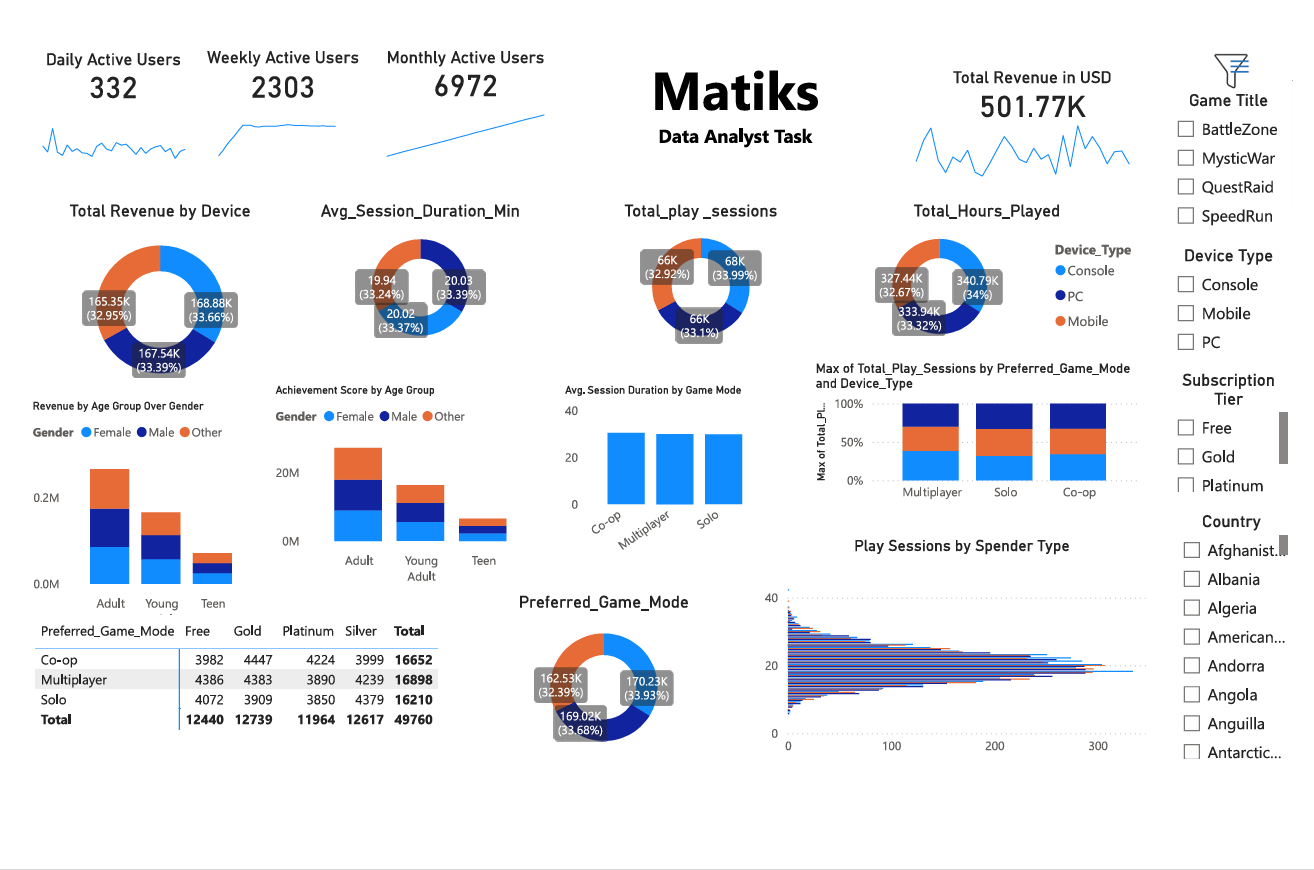

The page's visual inventory and layout, read from the dashboard file:
{"tool":"powerbi","page":{"name":"Page 1","canvas":[1280,720],"ordinal":0},"visuals":[{"type":"card","title":"Weekly Active Users","fields":{"Values":["Matiks.WAU"]},"box":[172.5,0,185.8,56.7],"z":0},{"type":"lineChart","fields":{"Y":["Sum(Matiks.Total_Revenue_USD)"],"Category":["Calendar.Date.Variation.Date Hierarchy.Year","Calendar.Date.Variation.Date Hierarchy.Quarter","Calendar.Date.Variation.Date Hierarchy.Month","Calendar.Date.Variation.Date Hierarchy.Day"]},"box":[886.7,57.8,244.4,85.6],"z":1000},{"type":"slicer","title":"Device Type","fields":{"Values":["Matiks.Device_Type"]},"box":[1152.2,198.9,127.8,130],"z":2000},{"type":"slicer","title":"Country","fields":{"Values":["Matiks.Country"]},"box":[1157.8,465.6,122.2,254.4],"z":3000},{"type":"slicer","title":"Game Title","fields":{"Values":["Matiks.Game_Title"]},"box":[1152.2,43.3,127.8,155.6],"z":4000},{"type":"lineChart","title":"Daily Active Users","fields":{"Y":["Matiks.DAU_CARD"],"Category":["Calendar.Date.Variation.Date Hierarchy.Year"]},"box":[9.2,54.2,172.5,63.3],"z":5000},{"type":"lineChart","title":"Weekly Active Users Over Time","fields":{"Y":["Matiks.WAU"],"Category":["Calendar.Date.Variation.Date Hierarchy.Year"]},"box":[185.8,55,147.5,65],"z":6000},{"type":"lineChart","title":"Montly Active Users Over Time","fields":{"Y":["Matiks.MAU"],"Category":["Calendar.Date.Variation.Date Hierarchy.Year"]},"box":[355,54.2,188.3,62.5],"z":7000},{"type":"card","title":"Daily Active Users","fields":{"Values":["Matiks.DAU_CARD"]},"box":[4.2,1.7,181.7,54.2],"z":8000},{"type":"card","title":"Monthly Active Users","fields":{"Values":["Matiks.MAU_CARD"]},"box":[358.3,0,181.7,54.2],"z":9000},{"type":"card","title":"Total Revenue in USD","fields":{"Values":["Sum(Matiks.Total_Revenue_USD)"]},"box":[906.2,20,225,56.2],"z":10000},{"type":"donutChart","title":"Total_play _sessions","fields":{"Category":["Matiks.Device_Type"],"Y":["Sum(Matiks.Total_Play_Sessions)"]},"box":[540,153.8,291.2,155],"z":11000},{"type":"donutChart","title":"Avg_Session_Duration_Min","fields":{"Category":["Matiks.Device_Type"],"Y":["Avg(Matiks.Total_Play_Sessions)"]},"box":[283.8,153.8,238.8,156.2],"z":12000},{"type":"donutChart","title":"Total Revenue by Device","fields":{"Category":["Matiks.Device_Type"],"Y":["Sum(Matiks.Total_Revenue_USD)"]},"box":[0,153.8,283.8,200],"z":13000},{"type":"donutChart","title":"Total_Hours_Played","fields":{"Category":["Matiks.Device_Type"],"Y":["Sum(Matiks.Total_Hours_Played)"]},"box":[805,153.8,336.2,153.8],"z":14000},{"type":"clusteredBarChart","title":"Play Sessions by Spender Type","fields":{"Y":["CountNonNull(Matiks.Spender_Type)"],"Category":["Matiks.Total_Play_Sessions"],"Series":["Matiks.Device_Type"]},"box":[744,491,408,229],"z":15000},{"type":"columnChart","title":"Revenue by Age Group Over Gender","fields":{"Category":["Matiks.User_Age_Segment"],"Series":["Matiks.Gender"],"Y":["Sum(Matiks.Total_Revenue_USD)"]},"box":[9,354,233,236],"z":16000},{"type":"columnChart","title":"Achievement Score by Age Group","fields":{"Category":["Matiks.User_Age_Segment"],"Y":["Sum(Matiks.Achievement_Score)"],"Series":["Matiks.Gender"]},"box":[253,338,270,209],"z":17000},{"type":"donutChart","title":"Preferred_Game_Mode","fields":{"Category":["Matiks.Preferred_Game_Mode"],"Y":["Sum(Matiks.Total_Revenue_USD)"]},"box":[466.7,546.7,242.2,173.3],"z":18000},{"type":"hundredPercentStackedColumnChart","fields":{"Category":["Matiks.Preferred_Game_Mode"],"Y":["Max(Matiks.Total_Play_Sessions)"],"Series":["Matiks.Device_Type"]},"box":[796,315,335,150],"z":19000},{"type":"clusteredColumnChart","title":"Avg. Session Duration by Game Mode","fields":{"Category":["Matiks.Preferred_Game_Mode"],"Y":["Avg(Matiks.Avg_Session_Duration_Min)"]},"box":[543.8,337.5,210,180],"z":20000},{"type":"pivotTable","fields":{"Rows":["Matiks.Preferred_Game_Mode"],"Columns":["Matiks.Subscription_Tier"],"Values":["Sum(Matiks.In_Game_Purchases_Count)"]},"box":[12,571,416,149],"z":21000},{"type":"image","box":[1157.8,0,122.2,47.8],"z":22000},{"type":"textbox","box":[568.8,0,302.5,115],"z":23000},{"type":"slicer","title":"Subscription Tier","fields":{"Values":["Matiks.Subscription_Tier"]},"box":[1152.2,324.4,127.8,130],"z":23001}]}

Visuals, with their boxes on the page's 1280x720 design canvas (x1, y1, x2, y2). These are canvas units, not pixel positions in the 1314x870 screenshot, which may show the page scaled, cropped or inside an application window:
"Weekly Active Users" card: x1=172, y1=0, x2=358, y2=57
lineChart - Sum(Matiks.Total_Revenue_USD) x Calendar.Date.Variation.Date Hierarchy.Year: x1=887, y1=58, x2=1131, y2=143
"Device Type" slicer: x1=1152, y1=199, x2=1280, y2=329
"Country" slicer: x1=1158, y1=466, x2=1280, y2=720
"Game Title" slicer: x1=1152, y1=43, x2=1280, y2=199
"Daily Active Users" lineChart: x1=9, y1=54, x2=182, y2=118
"Weekly Active Users Over Time" lineChart: x1=186, y1=55, x2=333, y2=120
"Montly Active Users Over Time" lineChart: x1=355, y1=54, x2=543, y2=117
"Daily Active Users" card: x1=4, y1=2, x2=186, y2=56
"Monthly Active Users" card: x1=358, y1=0, x2=540, y2=54
"Total Revenue in USD" card: x1=906, y1=20, x2=1131, y2=76
"Total_play _sessions" donutChart: x1=540, y1=154, x2=831, y2=309
"Avg_Session_Duration_Min" donutChart: x1=284, y1=154, x2=523, y2=310
"Total Revenue by Device" donutChart: x1=0, y1=154, x2=284, y2=354
"Total_Hours_Played" donutChart: x1=805, y1=154, x2=1141, y2=308
"Play Sessions by Spender Type" clusteredBarChart: x1=744, y1=491, x2=1152, y2=720
"Revenue by Age Group Over Gender" columnChart: x1=9, y1=354, x2=242, y2=590
"Achievement Score by Age Group" columnChart: x1=253, y1=338, x2=523, y2=547
"Preferred_Game_Mode" donutChart: x1=467, y1=547, x2=709, y2=720
hundredPercentStackedColumnChart - Matiks.Preferred_Game_Mode x Max(Matiks.Total_Play_Sessions): x1=796, y1=315, x2=1131, y2=465
"Avg. Session Duration by Game Mode" clusteredColumnChart: x1=544, y1=338, x2=754, y2=518
pivotTable - Matiks.Preferred_Game_Mode x Matiks.Subscription_Tier: x1=12, y1=571, x2=428, y2=720
image: x1=1158, y1=0, x2=1280, y2=48
textbox: x1=569, y1=0, x2=871, y2=115
"Subscription Tier" slicer: x1=1152, y1=324, x2=1280, y2=454
